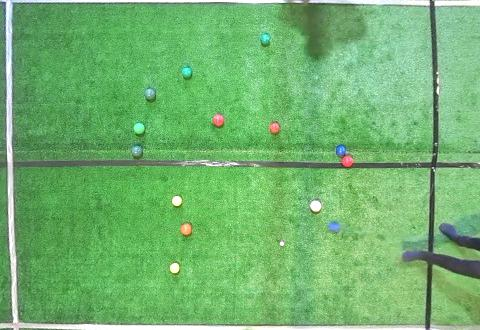blue: (335, 145, 346, 156), (328, 222, 340, 231)
green: (144, 88, 156, 100), (133, 123, 145, 134), (131, 145, 142, 157), (260, 33, 270, 44), (182, 68, 191, 78)
red: (212, 114, 224, 126), (342, 155, 354, 167), (180, 223, 192, 235), (269, 122, 280, 134), (310, 200, 321, 212)
vline: (428, 1, 479, 252), (0, 1, 22, 329), (425, 263, 480, 329)
white: (279, 241, 284, 246)
yellow: (169, 263, 180, 273), (172, 196, 182, 206)
